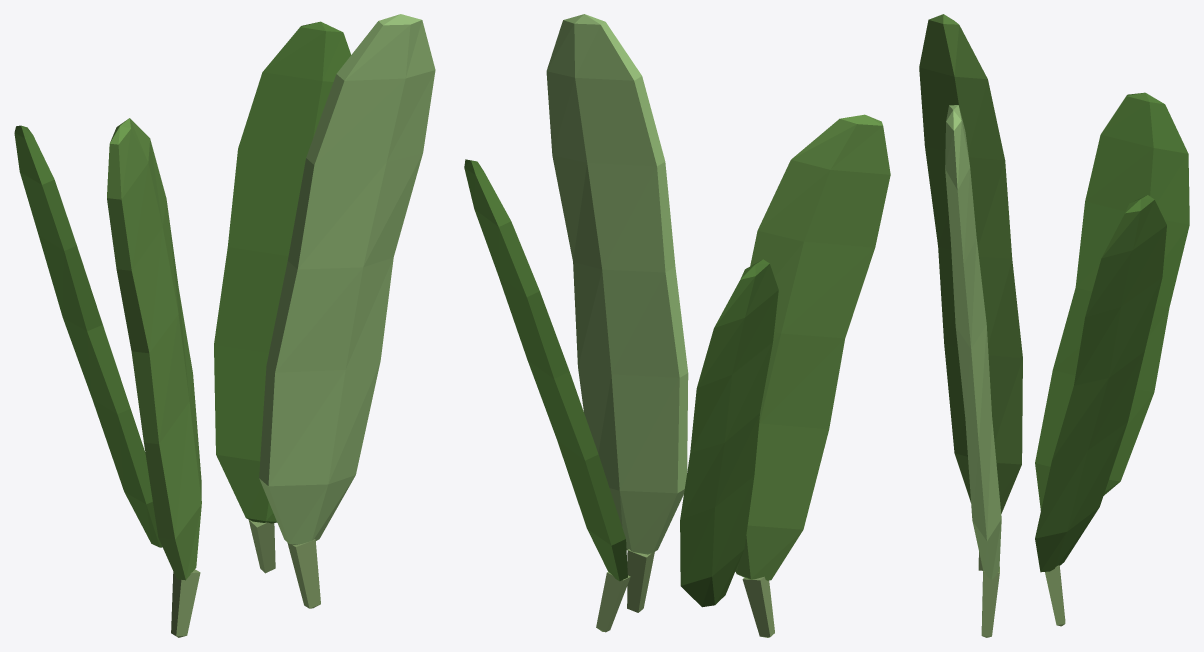
Rendered from snowpea.gltf.
3 views of the same model, side by side, from view 1: azimuth 30°, elevation 25°; view 2: azimuth 150°, elevation 25°; view 3: azimuth 270°, elevation 25° (orthographic). The views are drawn at different scales.
Parts seen in each view (by area): view 1: snowpea; view 2: snowpea; view 3: snowpea.
Boxes of the visible parts, <box> form: snowpea: <box>14,14,435,637</box>; snowpea: <box>464,14,890,637</box>; snowpea: <box>919,14,1189,637</box>.
Bounding box in the file's own units: 0.1243 × 0.2034 × 0.089.
